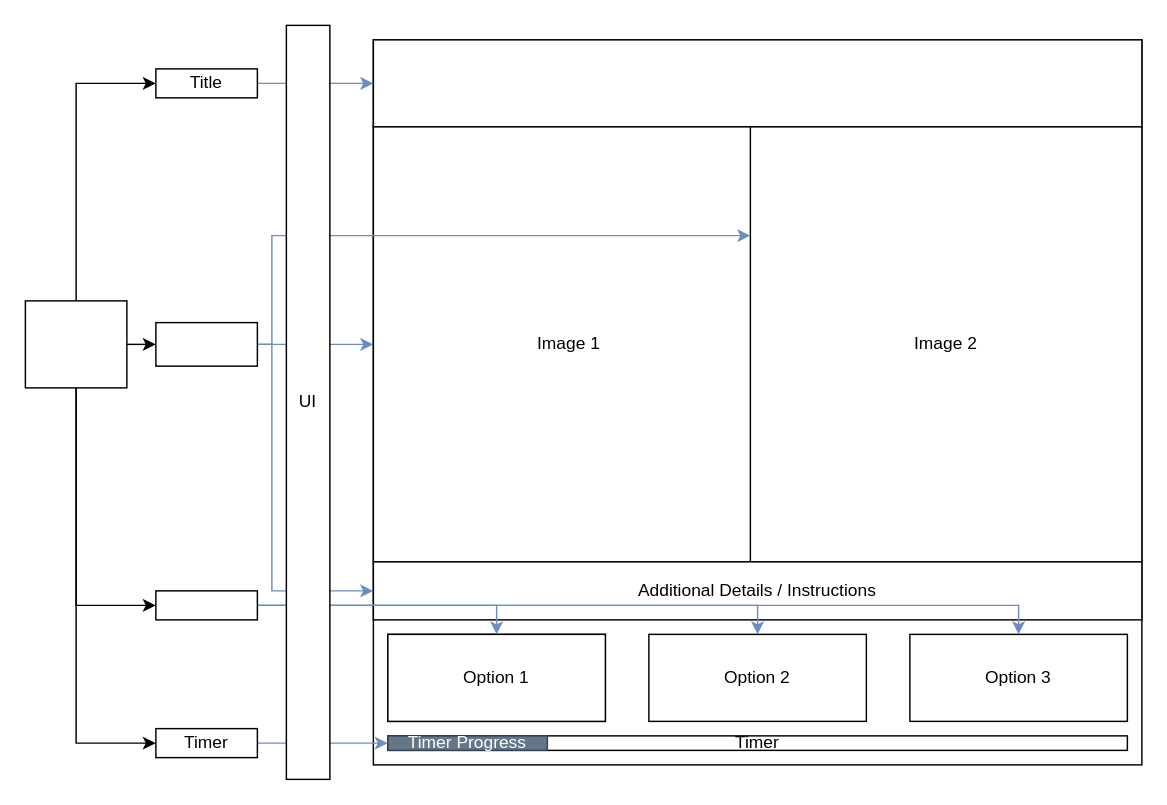
The diagram is 1167 pixels wide and 805 high, and some of its shapes have lost their labels. The shapes that lost their labels are listed below. From the top down, each one's centre as x and y in pixels, then its label:
the point at 757,82: Title / Instructions
the point at 75,343: Task
the point at 205,343: TaskDisplay
the point at 205,604: Options
